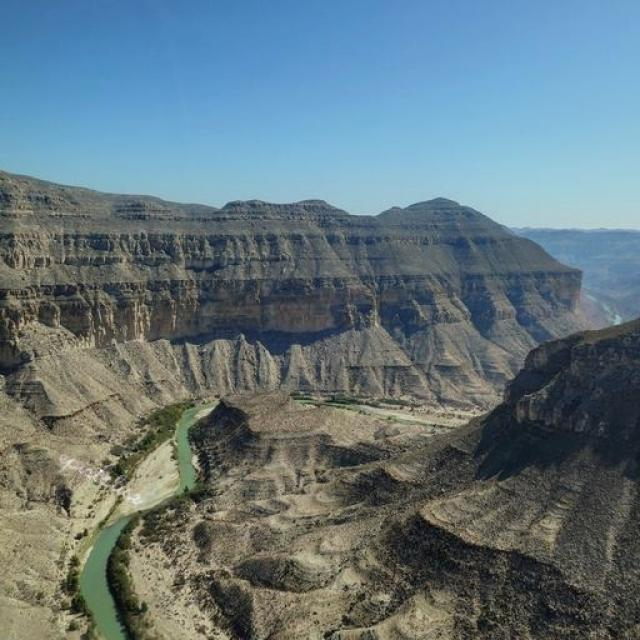watermark: (52, 438, 158, 509)
